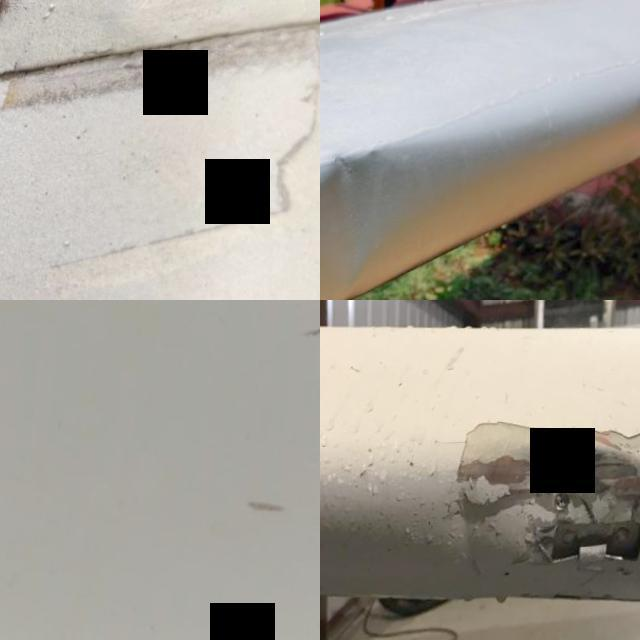Crack: (179, 300, 320, 582), (0, 40, 50, 246)
Dent: (454, 442, 640, 581), (320, 133, 423, 300)
